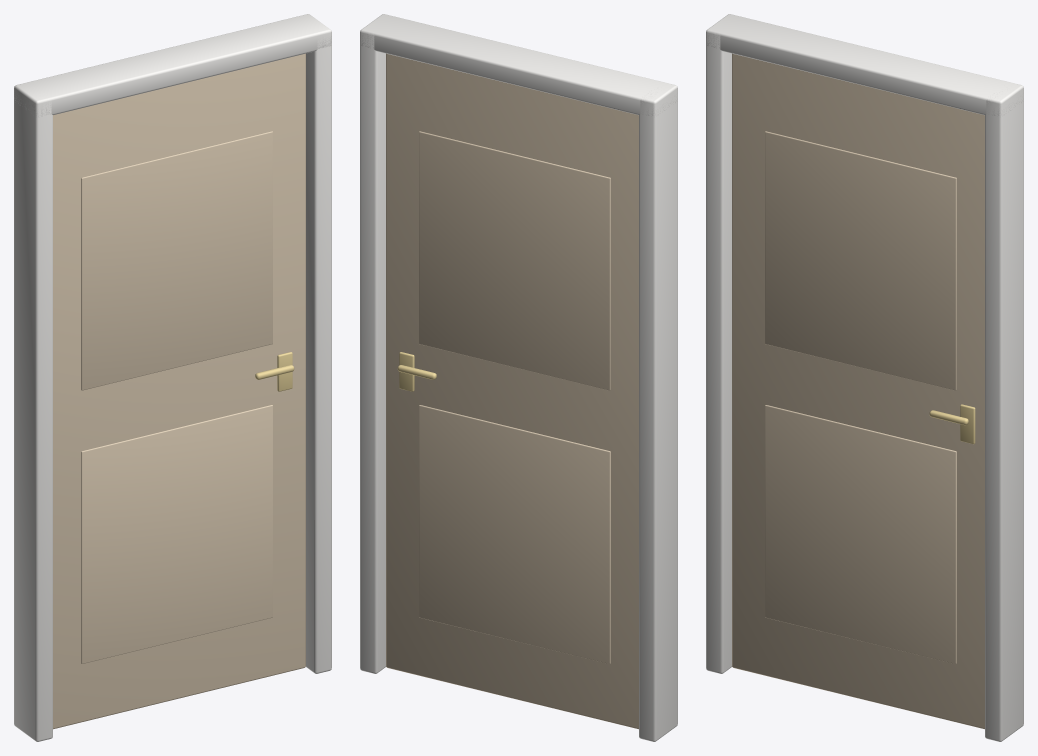
Rendered from Door.glb.
3 renders of one model, left to right at view 1: azimuth 30°, elevation 25°; view 2: azimuth 150°, elevation 25°; view 3: azimuth 330°, elevation 25°, orthographic.
Visible parts, largest first — view 1: Door.Hinge.Leaf, Door.Leaf.Panel-11.45, Door.Leaf.Panel-10.55, Door.FrameL, Door.FrameR, Door.FrameTop; view 2: Door.Hinge.Leaf, Door.Leaf.Panel11.45, Door.Leaf.Panel10.55, Door.FrameL, Door.FrameR, Door.FrameTop; view 3: Door.Hinge.Leaf, Door.Leaf.Panel-11.45, Door.Leaf.Panel-10.55, Door.FrameR, Door.FrameL, Door.FrameTop, Door.Leaf.Rose-1.
Boxes of the visible parts, <box> form: Door.Hinge.Leaf: <box>53,53,305,729</box>; Door.Leaf.Panel-11.45: <box>81,131,272,390</box>; Door.Leaf.Panel-10.55: <box>81,405,272,663</box>; Door.FrameL: <box>14,86,52,741</box>; Door.FrameR: <box>305,32,331,673</box>; Door.FrameTop: <box>14,14,331,116</box>; Door.Hinge.Leaf: <box>386,53,638,729</box>; Door.Leaf.Panel11.45: <box>419,131,610,390</box>; Door.Leaf.Panel10.55: <box>419,405,610,663</box>; Door.FrameL: <box>639,87,677,741</box>; Door.FrameR: <box>360,30,386,673</box>; Door.FrameTop: <box>360,14,677,115</box>; Door.Hinge.Leaf: <box>732,53,984,729</box>; Door.Leaf.Panel-11.45: <box>765,131,956,390</box>; Door.Leaf.Panel-10.55: <box>765,405,956,663</box>; Door.FrameR: <box>985,87,1023,741</box>; Door.FrameL: <box>706,30,732,673</box>; Door.FrameTop: <box>706,14,1023,115</box>; Door.Leaf.Rose-1: <box>960,404,975,444</box>.
Bounding box in the file's own units: 1.02 × 2.11 × 0.14.
